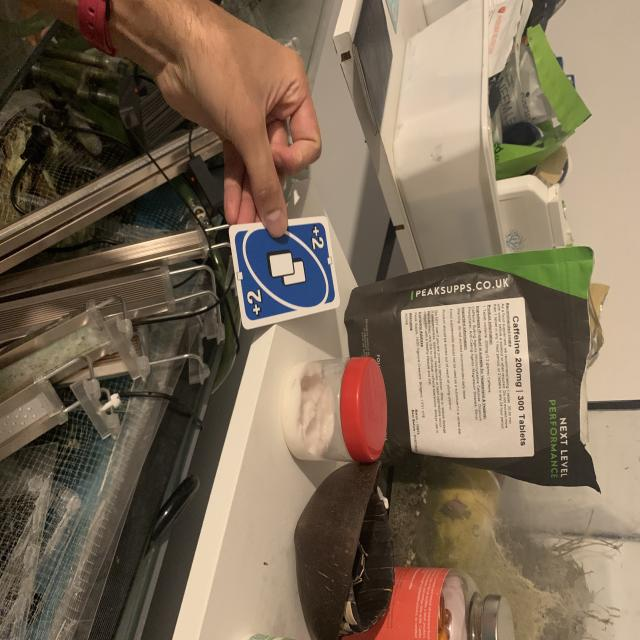lblue-20: (304, 224, 329, 256)
